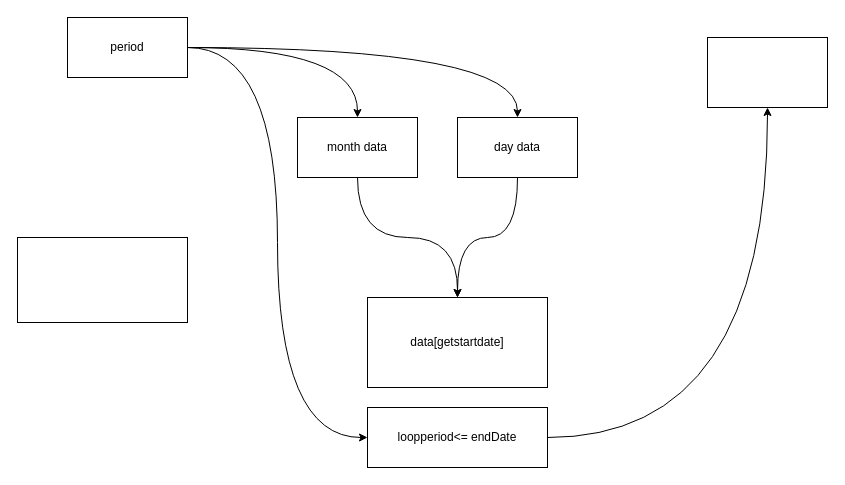
Some shapes in this 845 by 485 pixel diagram are drawn without their labels. Each missing label, with the centre of its shape:
endDate: point 102,279
new table data: point 767,72
